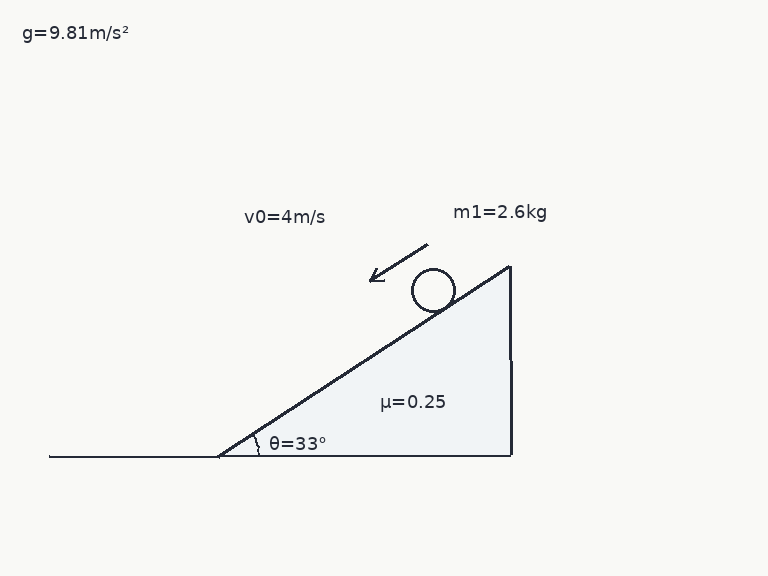ball: (409, 266, 457, 314)
ramp: (217, 265, 512, 458)
